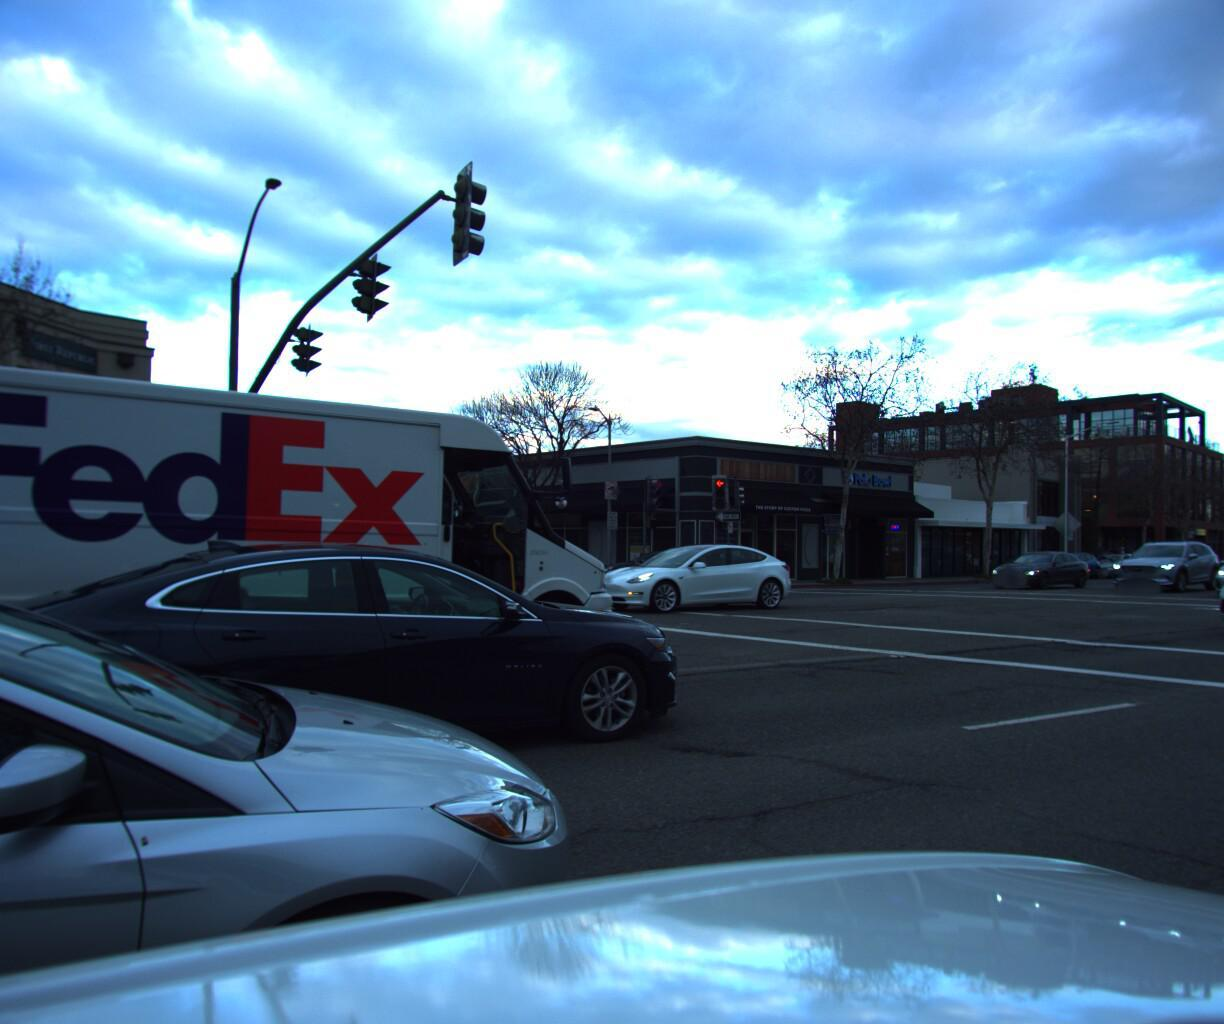car: (0, 458, 666, 1024), (0, 536, 695, 841), (579, 539, 796, 613), (1108, 533, 1224, 590), (596, 545, 719, 588), (982, 547, 1096, 587), (1198, 542, 1224, 646), (1031, 542, 1103, 573), (1074, 545, 1141, 573), (1202, 538, 1224, 595)
truck: (0, 337, 649, 726)
